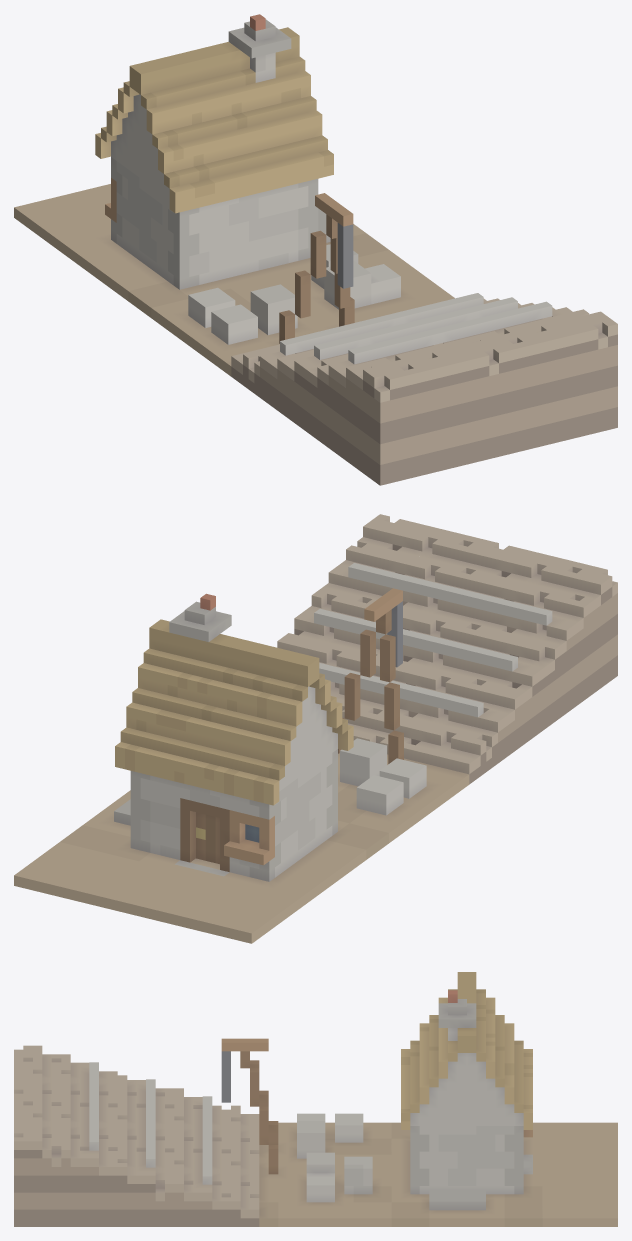
Rendered from quarry.glb.
The picture shows the model from 3 angles, top to bottom: view 1: azimuth 30°, elevation 25°; view 2: azimuth 150°, elevation 25°; view 3: azimuth 270°, elevation 25°; orthographic projection. The views are drawn at different scales.
Visible parts, largest first — view 1: quarry; view 2: quarry; view 3: quarry.
Boxes of the visible parts, x1=… form: quarry: x1=14, y1=14, x2=617, y2=485; quarry: x1=14, y1=514, x2=617, y2=943; quarry: x1=14, y1=972, x2=617, y2=1226.
Size of the model in its own units: 3 by 2.88 by 8.
